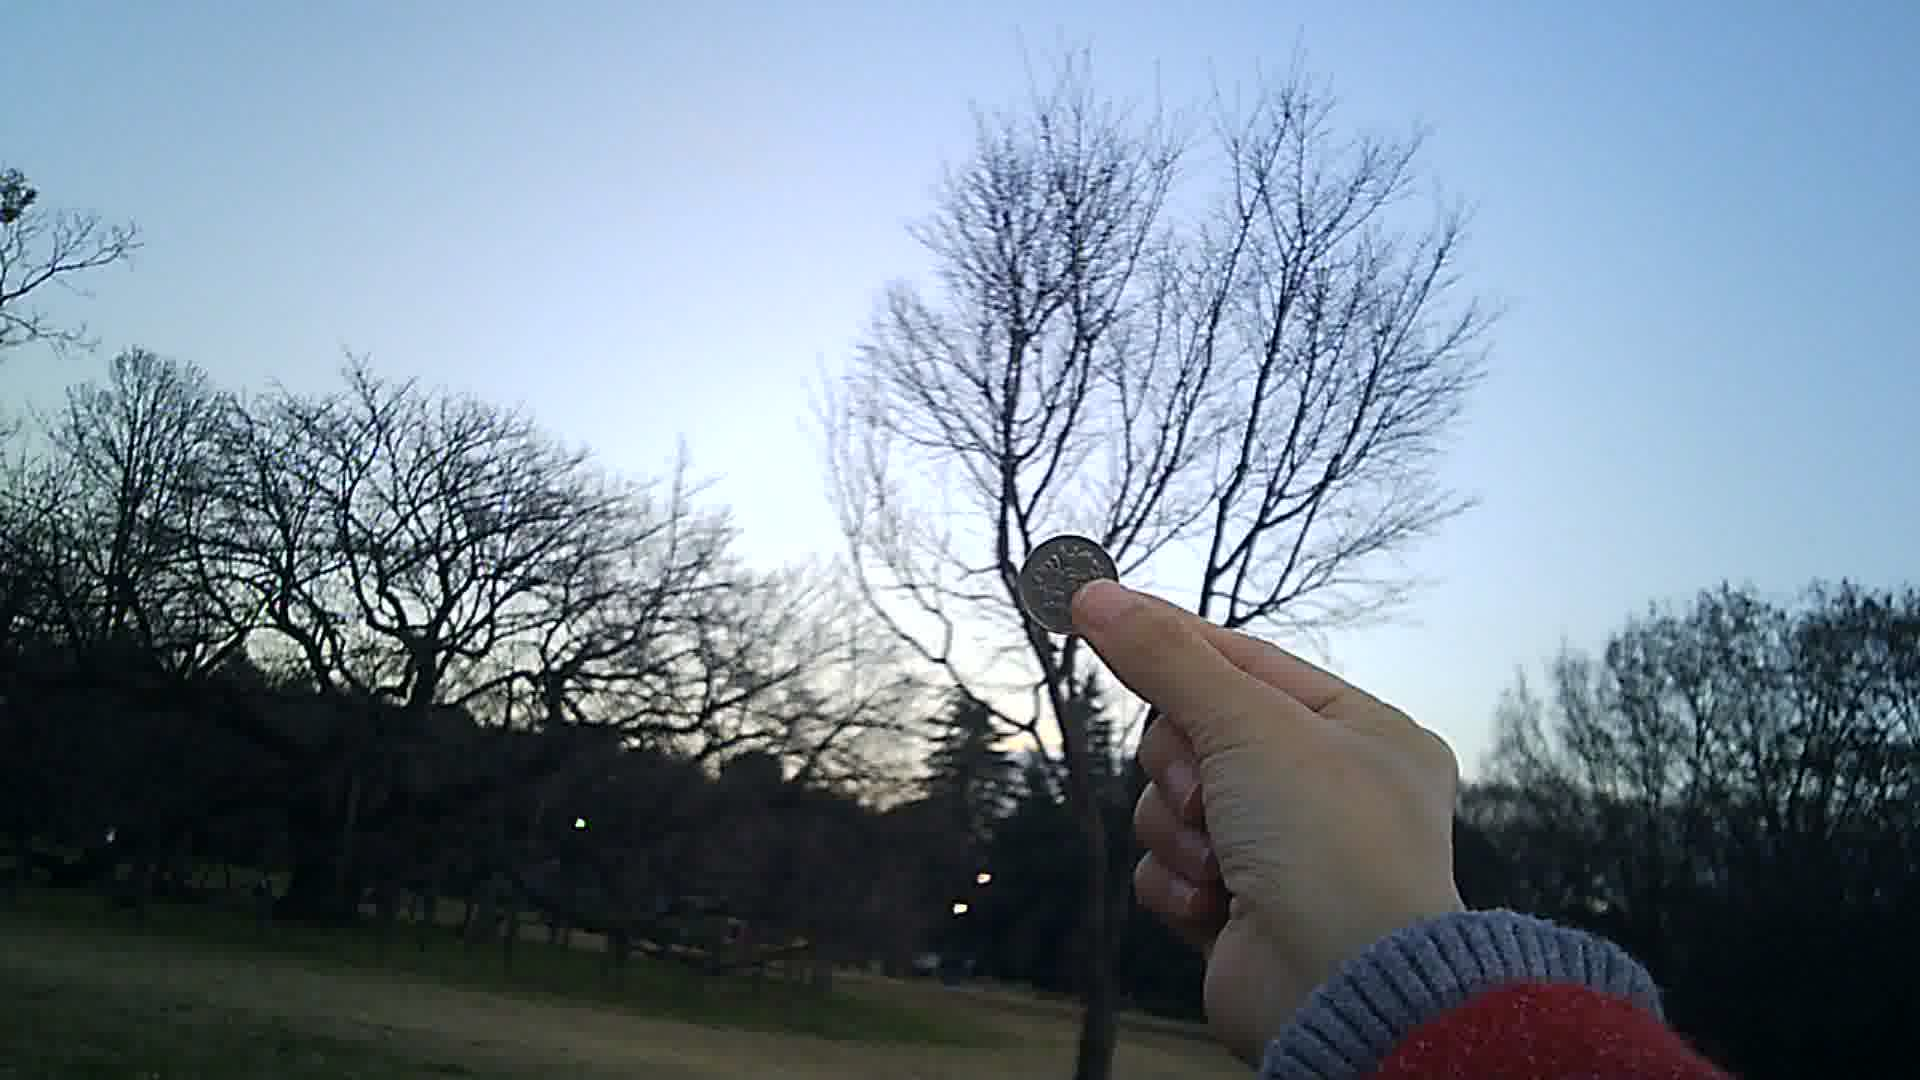100 Yen: (1021, 535, 1120, 632)
